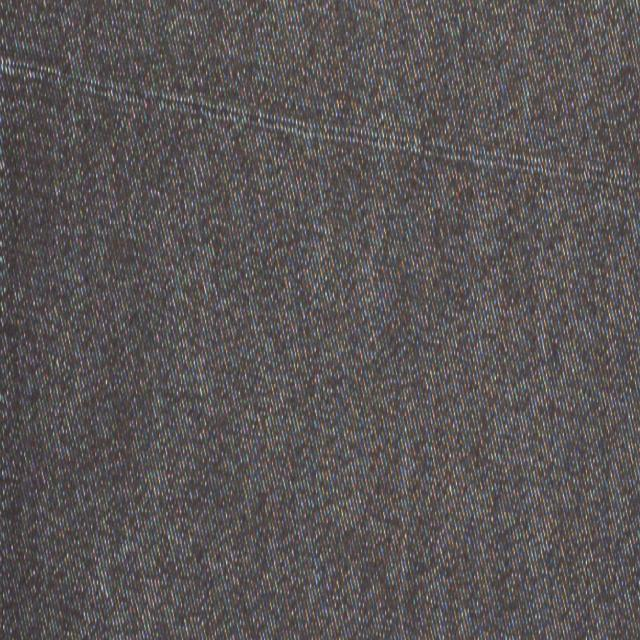Line: (0, 50, 638, 193)
